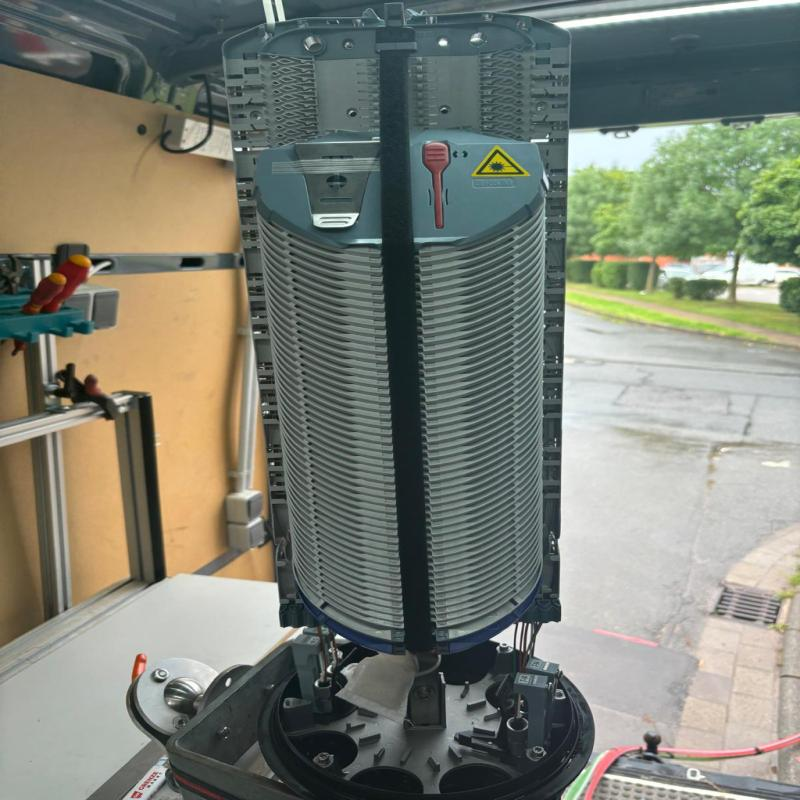NT-Muffen: (217, 14, 606, 791)
